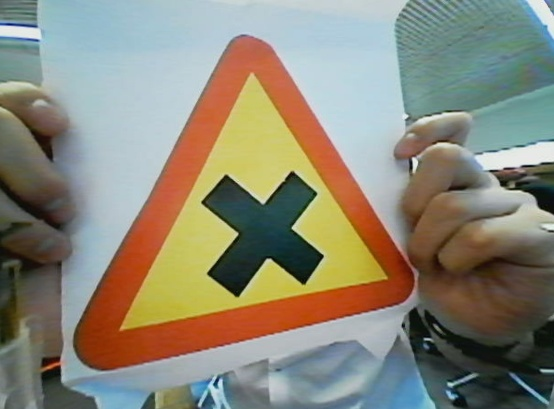junction: (79, 18, 421, 359)
